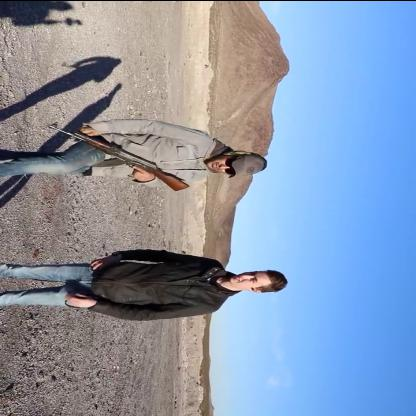long weapon: (45, 116, 197, 192)
